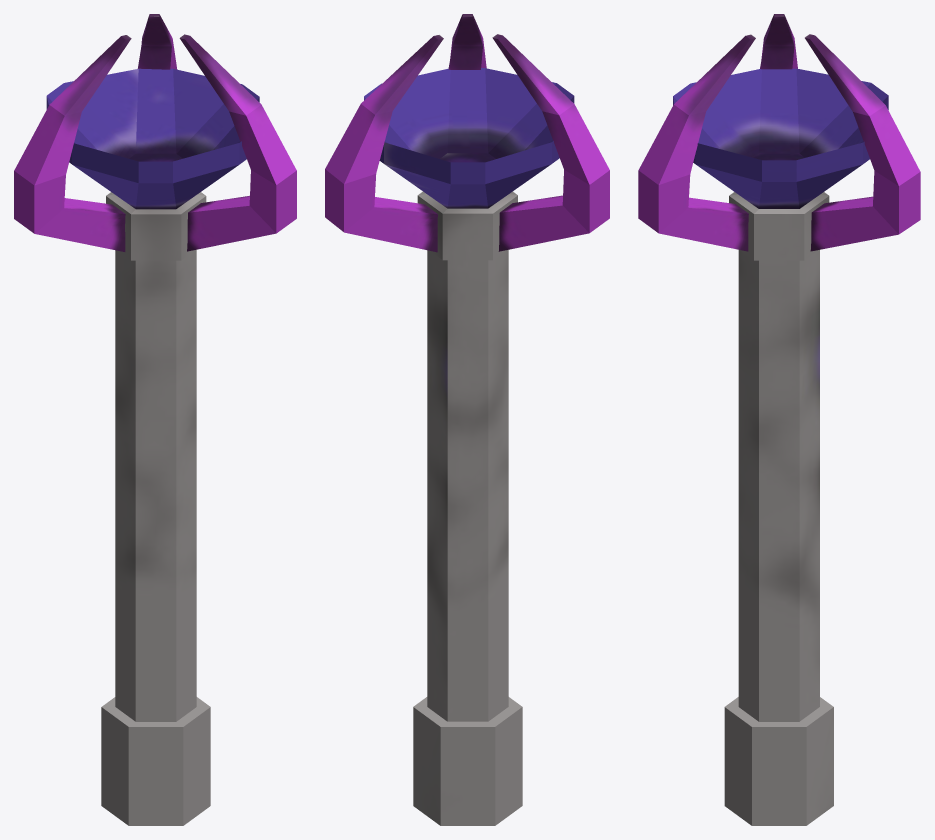
The model's file is Tocha2.fbx.
The picture shows the model from 3 angles, left to right: view 1: azimuth 30°, elevation 25°; view 2: azimuth 150°, elevation 25°; view 3: azimuth 270°, elevation 25°; orthographic projection.
Parts seen in each view (by area): view 1: LOD_0; view 2: LOD_0; view 3: LOD_0.
Part boxes in pixels (x1=…): LOD_0: x1=14, y1=14, x2=296, y2=825; LOD_0: x1=325, y1=14, x2=609, y2=825; LOD_0: x1=638, y1=14, x2=920, y2=825.
Size of what is drawn, in the model's own units: 60.12 by 196 by 64.71.
